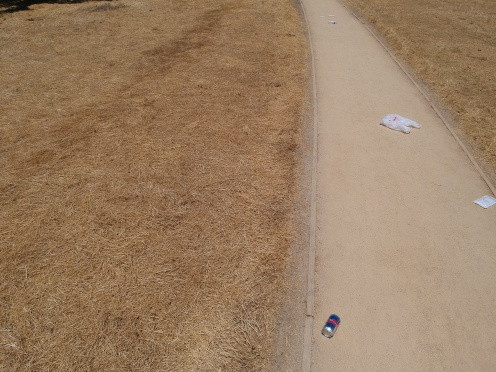bottle: (326, 19, 342, 25)
can: (320, 307, 342, 340)
plastic bag: (371, 108, 424, 137)
